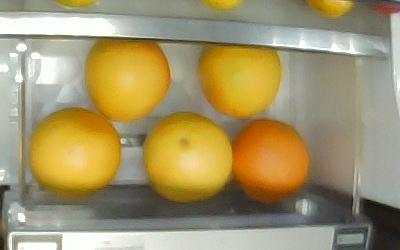grapefruit: (27, 105, 121, 197), (141, 110, 232, 202), (83, 37, 171, 120), (229, 117, 309, 203), (196, 43, 281, 118)
